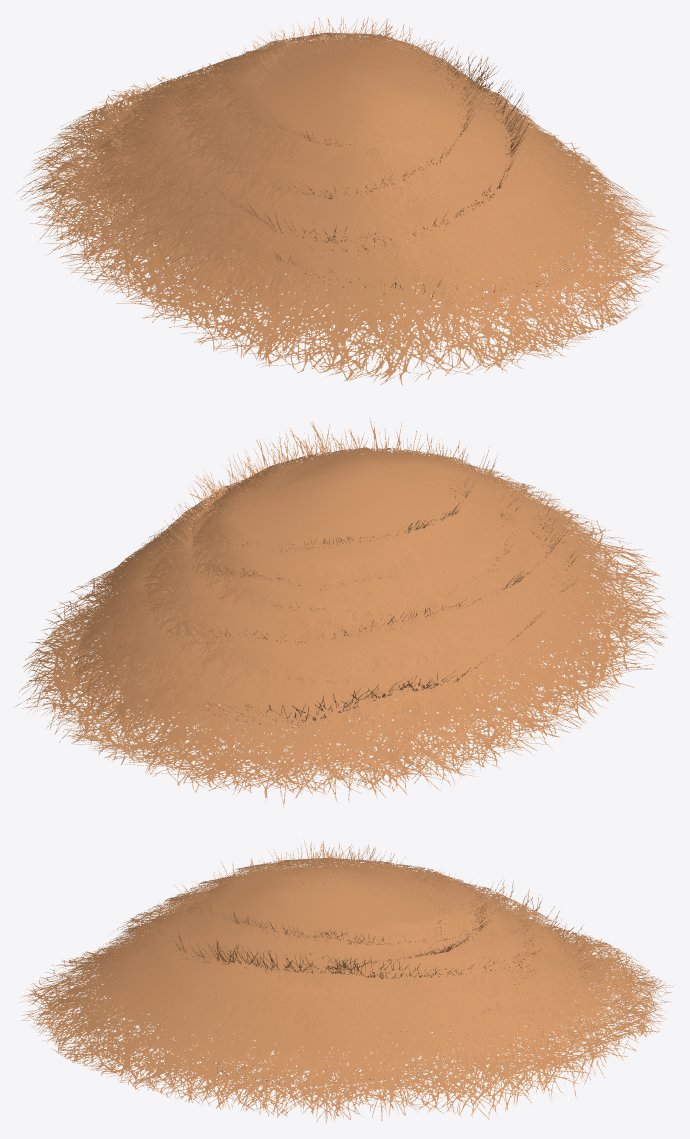
The model's file is haystack.glb.
3 views of the same model, one above another, from view 1: azimuth 30°, elevation 25°; view 2: azimuth 150°, elevation 25°; view 3: azimuth 270°, elevation 25° (orthographic). The views are drawn at different scales.
Visible parts, largest first — view 1: g; view 2: g; view 3: g.
Boxes of the visible parts, x1=… form: g: x1=16, y1=16, x2=668, y2=385; g: x1=14, y1=417, x2=669, y2=807; g: x1=19, y1=839, x2=672, y2=1123.
Size of the model in its own units: 1.54 by 0.5139 by 2.
Materials: 1 (1 with a texture image).
